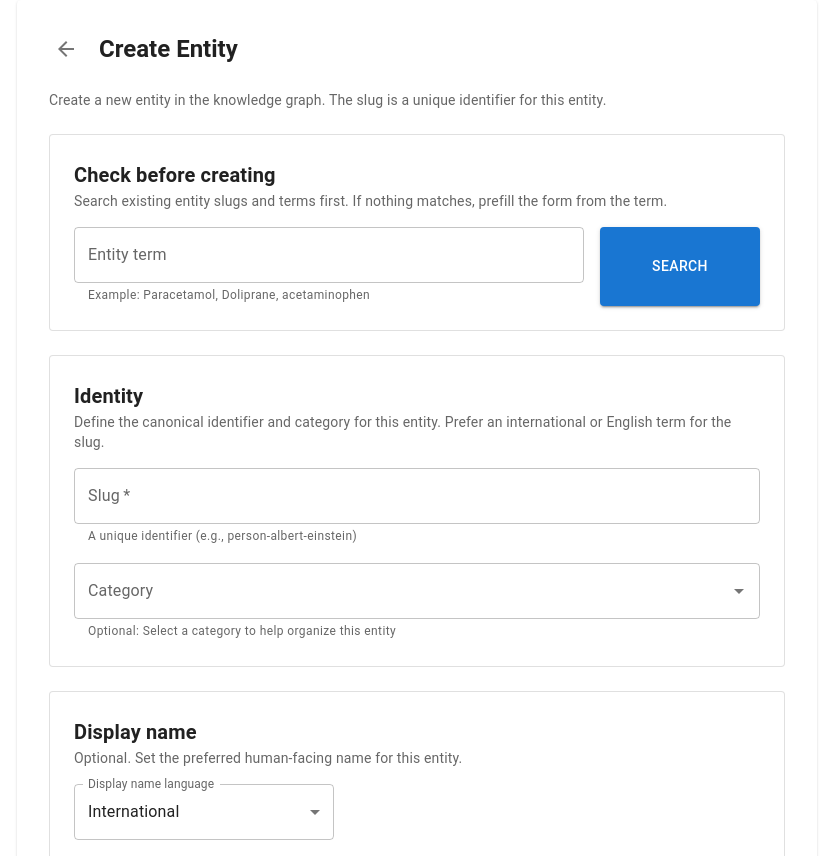
Test case: CreateEntityView › shows a dash immediately when typing a space
Type "aspirin " into the field labelled "Slug *" at (417, 496), box [74, 468, 760, 524]
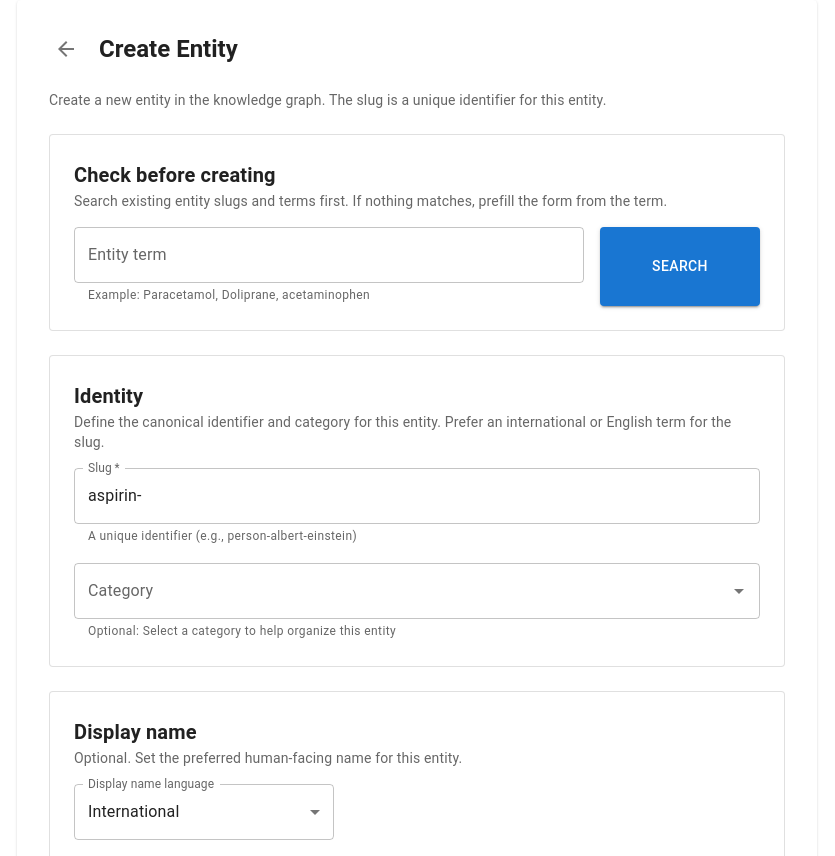
Expected: the field labelled "Slug *" holds "aspirin-", [74, 468, 760, 524]
